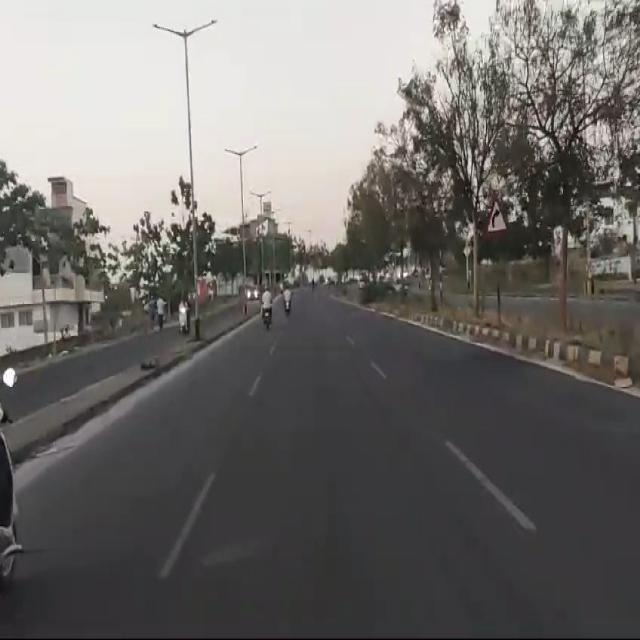bien_nguy_hiem: (485, 196, 509, 236)
